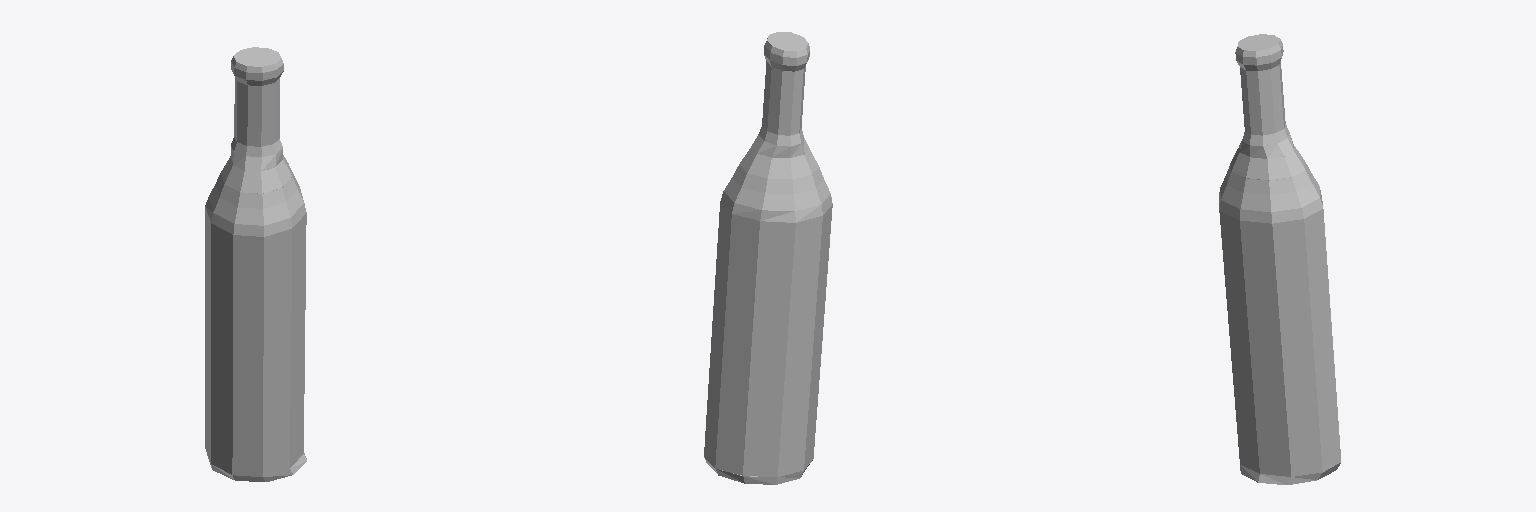
The model's file is glassbottle.obj.
3 views of the same model, side by side, from view 1: azimuth 30°, elevation 25°; view 2: azimuth 150°, elevation 25°; view 3: azimuth 270°, elevation 25° (orthographic).
Parts seen in each view (by area): view 1: 000_Cylinder_-_baked; view 2: 000_Cylinder_-_baked; view 3: 000_Cylinder_-_baked.
Boxes of the visible parts, x1,y1,x2,y2 form: 000_Cylinder_-_baked: [205, 47, 306, 481]; 000_Cylinder_-_baked: [704, 32, 832, 484]; 000_Cylinder_-_baked: [1219, 34, 1340, 484].
Bounding box in the file's own units: 59.88 × 241 × 63.91.